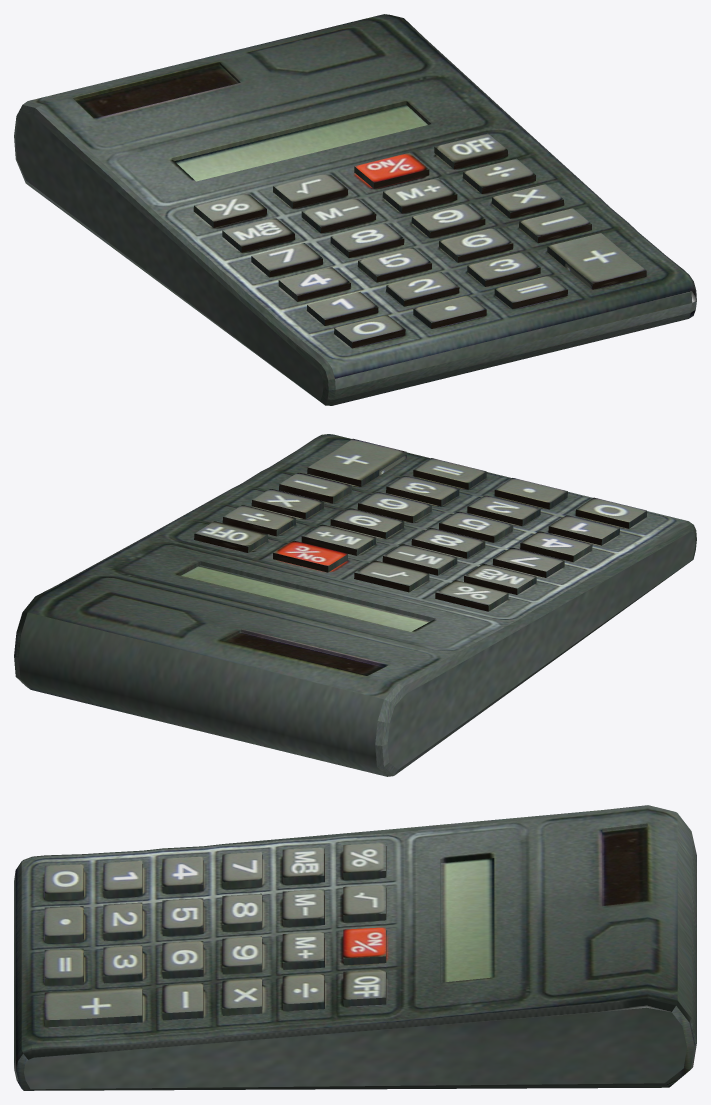
Rendered from Calcolatrice.fbx.
3 renders of one model, top to bottom at view 1: azimuth 30°, elevation 25°; view 2: azimuth 150°, elevation 25°; view 3: azimuth 270°, elevation 25°, orthographic. The views are drawn at different scales.
Parts seen in each view (by area): view 1: Calcolatrice; view 2: Calcolatrice; view 3: Calcolatrice.
Part boxes in pixels (x1,y1,x2,y2): Calcolatrice: (14,14,696,405); Calcolatrice: (14,434,696,776); Calcolatrice: (14,805,696,1090).
Bounding box in the file's own units: 504 × 113 × 744.
